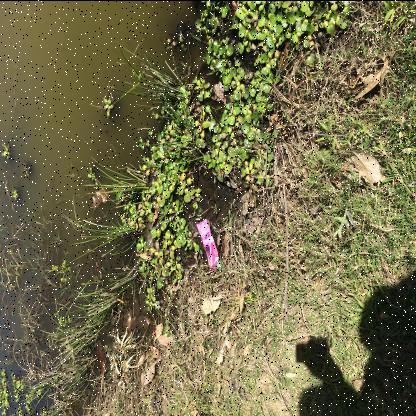other: (196, 218, 219, 270)
